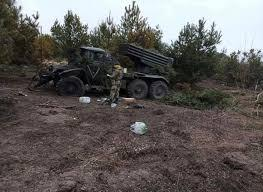MIL_SAM_TEL: (49, 39, 175, 102)
